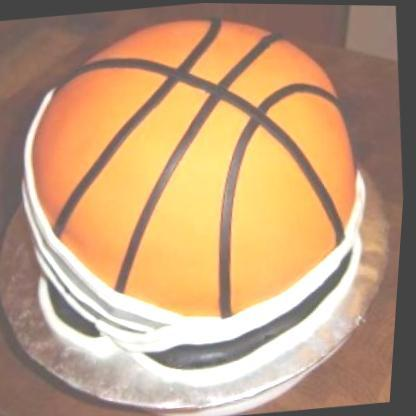basketball: (7, 0, 387, 348)
